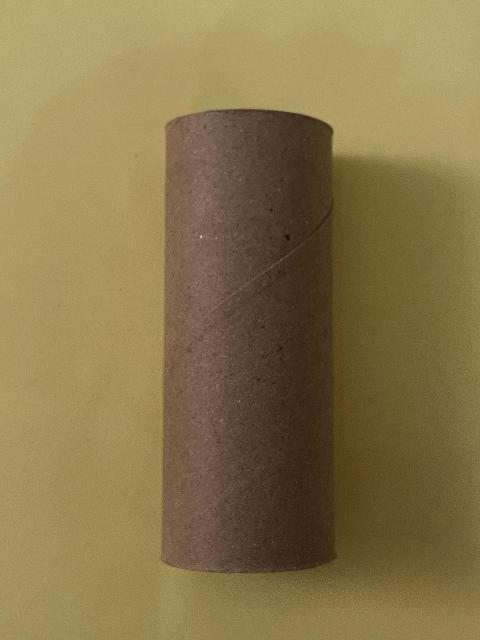tissueroll: (158, 104, 338, 576)
